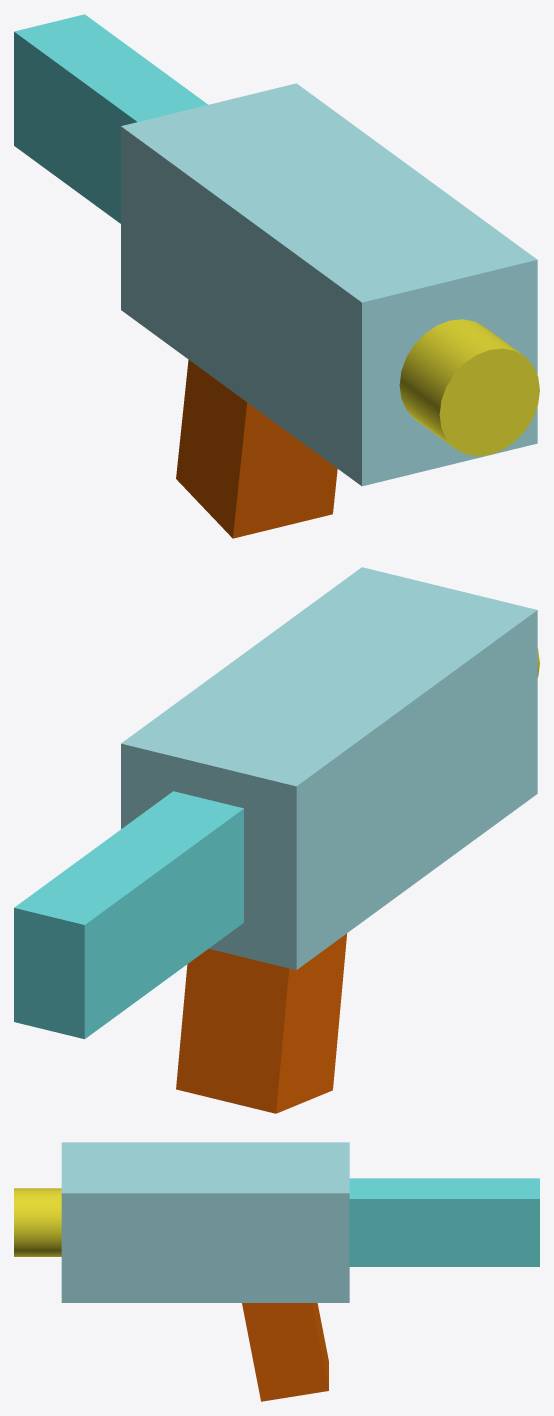
The model's file is fast_gun_blockot.fbx.
3 views of the same model, one above another, from view 1: azimuth 30°, elevation 25°; view 2: azimuth 150°, elevation 25°; view 3: azimuth 270°, elevation 25° (orthographic). The views are drawn at different scales.
Parts seen in each view (by area): view 1: Cube, Куб.001, Куб, Цилиндр; view 2: Cube, Куб.001, Куб; view 3: Cube, Куб.001, Куб, Цилиндр.
Part boxes in pixels (<box>): Cube: <box>121,83,537,486</box>; Куб.001: <box>14,14,207,223</box>; Куб: <box>176,359,337,538</box>; Цилиндр: <box>399,319,539,456</box>; Cube: <box>121,567,537,969</box>; Куб.001: <box>14,791,243,1039</box>; Куб: <box>176,933,346,1113</box>; Cube: <box>61,1142,349,1302</box>; Куб.001: <box>349,1178,539,1266</box>; Куб: <box>242,1303,328,1401</box>; Цилиндр: <box>14,1188,61,1256</box>.
Bounding box in the file's own units: 200 × 400 × 869.
